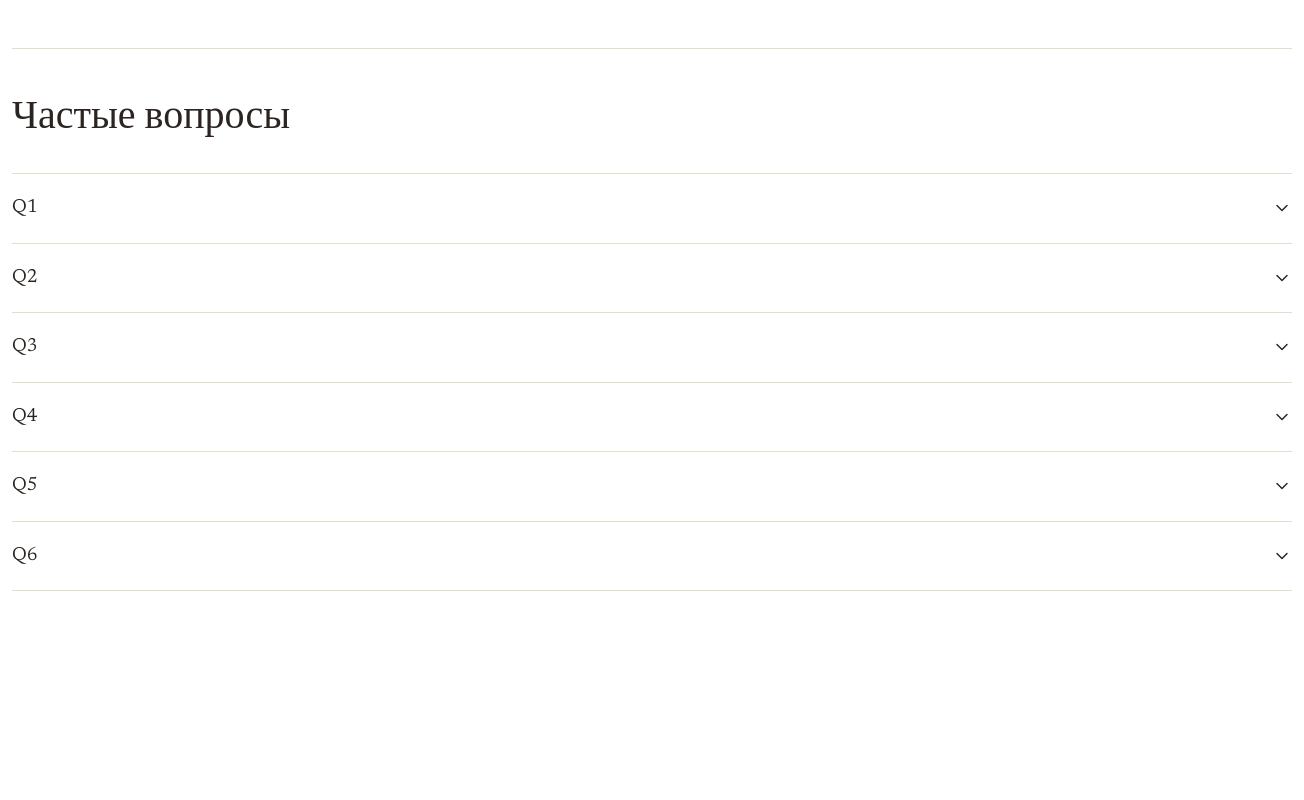
Test: FaqSection (T38-06) › keeps several items open and syncs hidden
Click the button "Q1".
click(25, 208)  # box [12,174,1292,242]
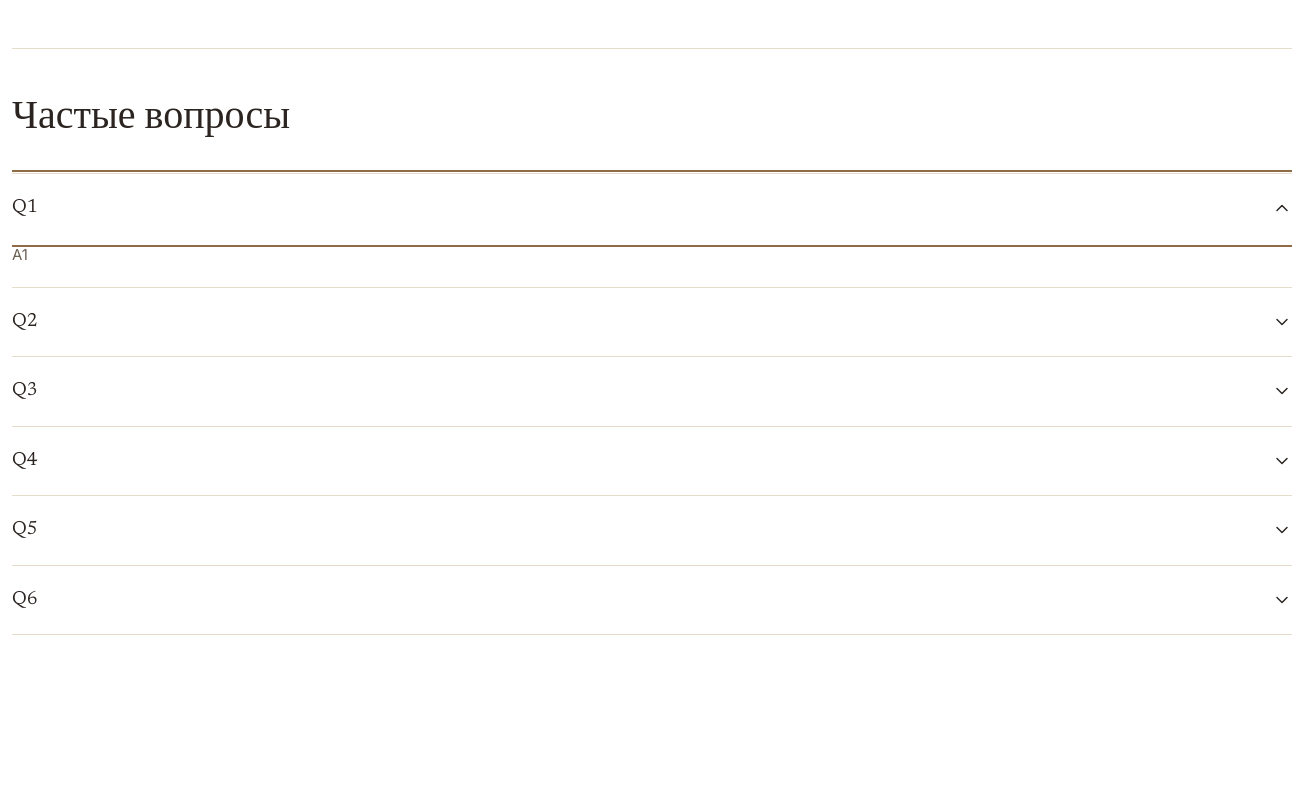
Click the button "Q2".
click(25, 321)  # box [12,288,1292,356]
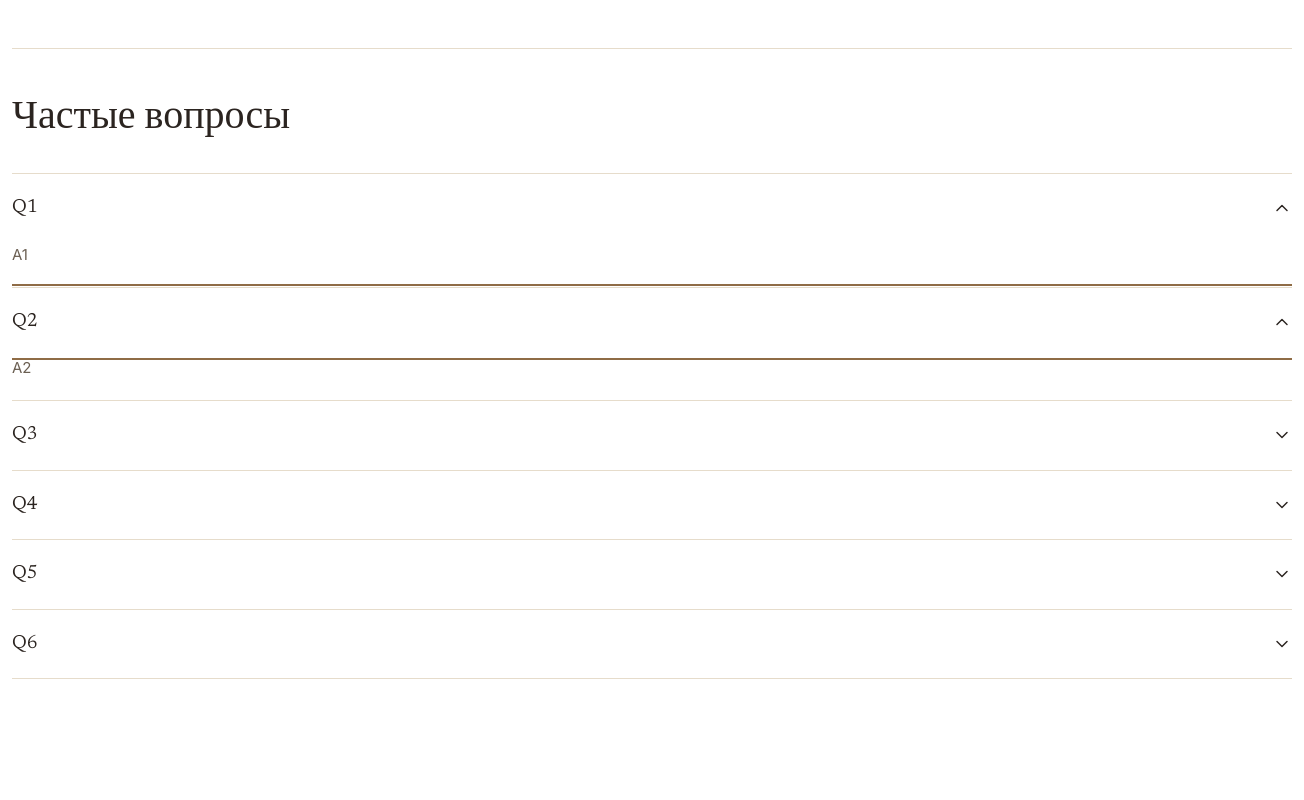
Check: the button "Q1" is expanded, box [12,174,1292,242]
Check: the button "Q2" is expanded, box [12,288,1292,356]
